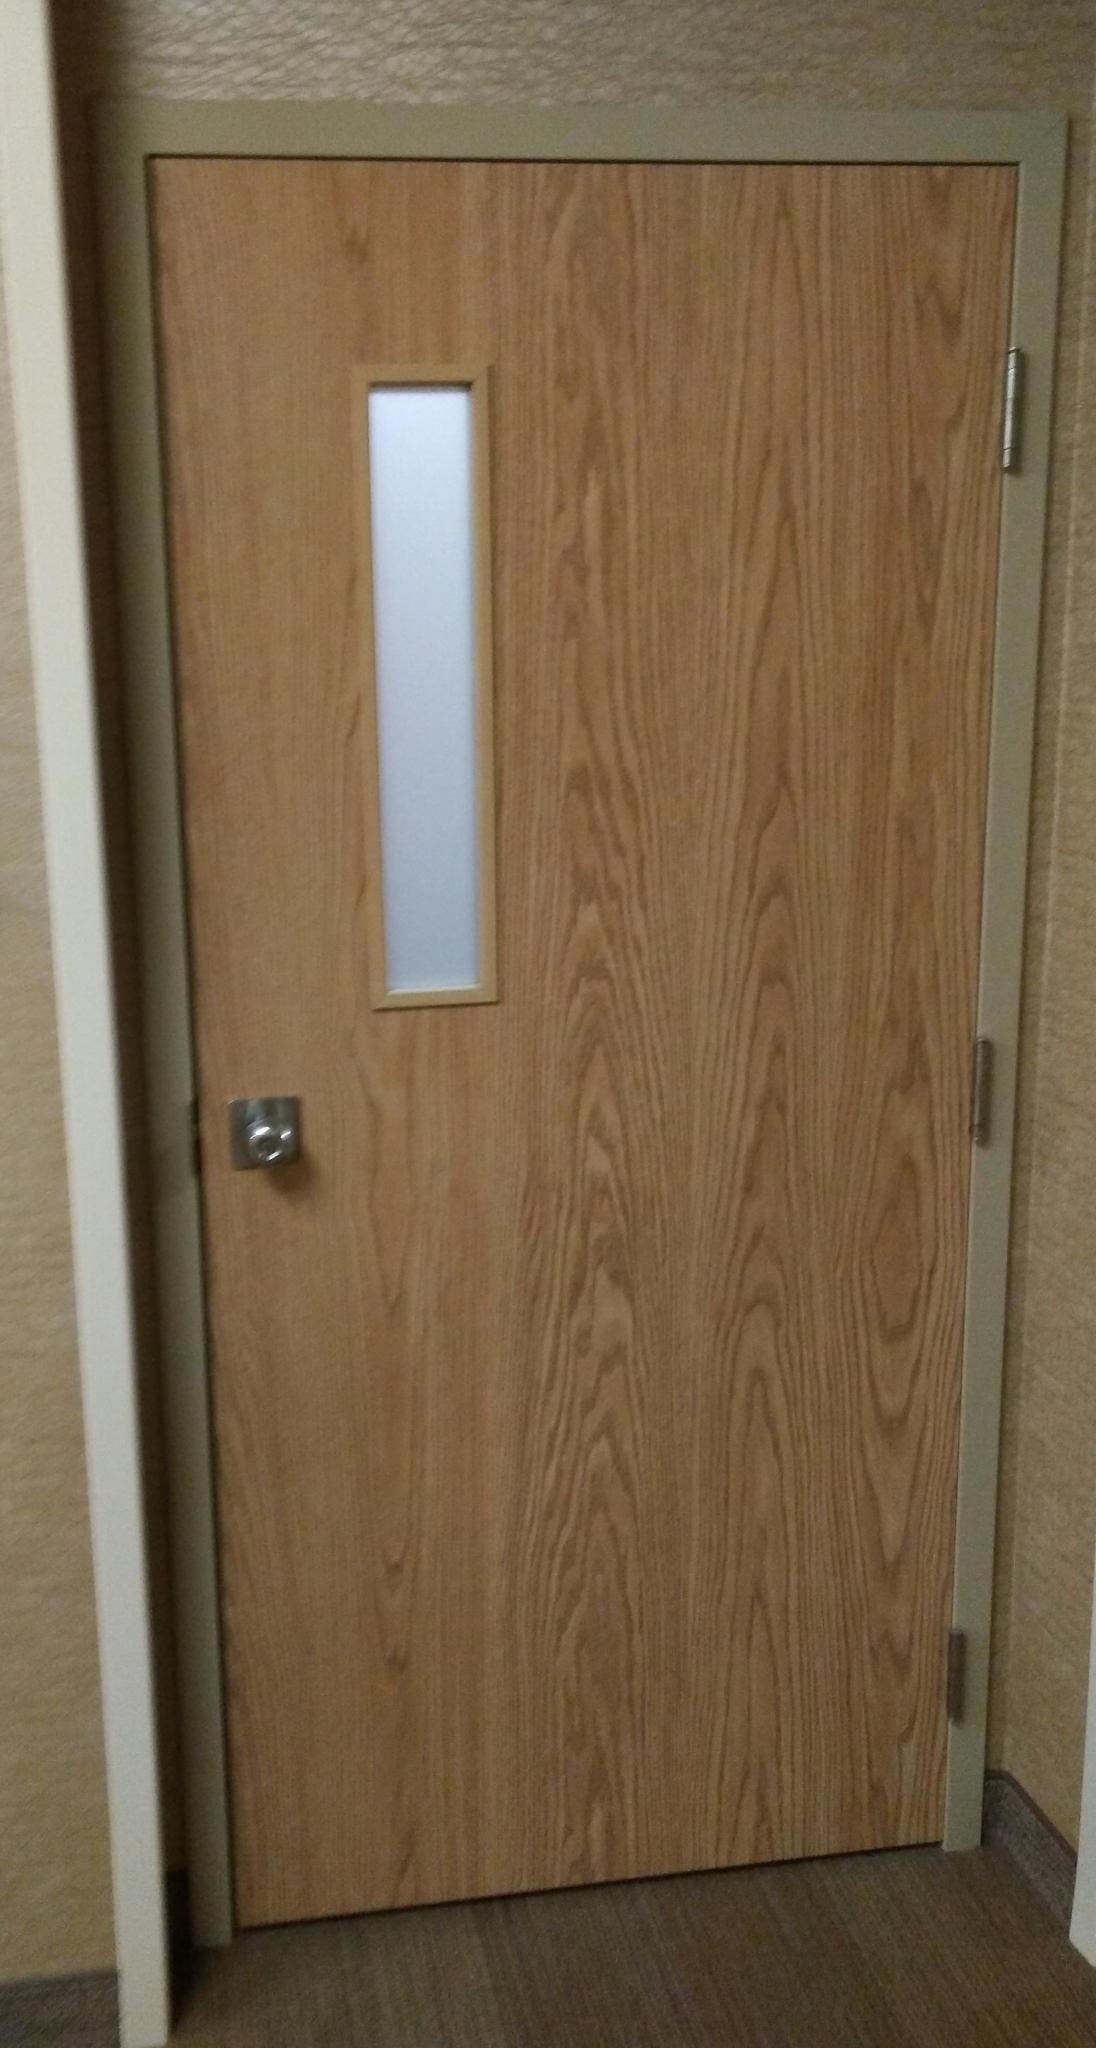door: (206, 184, 943, 1839)
handle: (244, 1101, 299, 1197)
